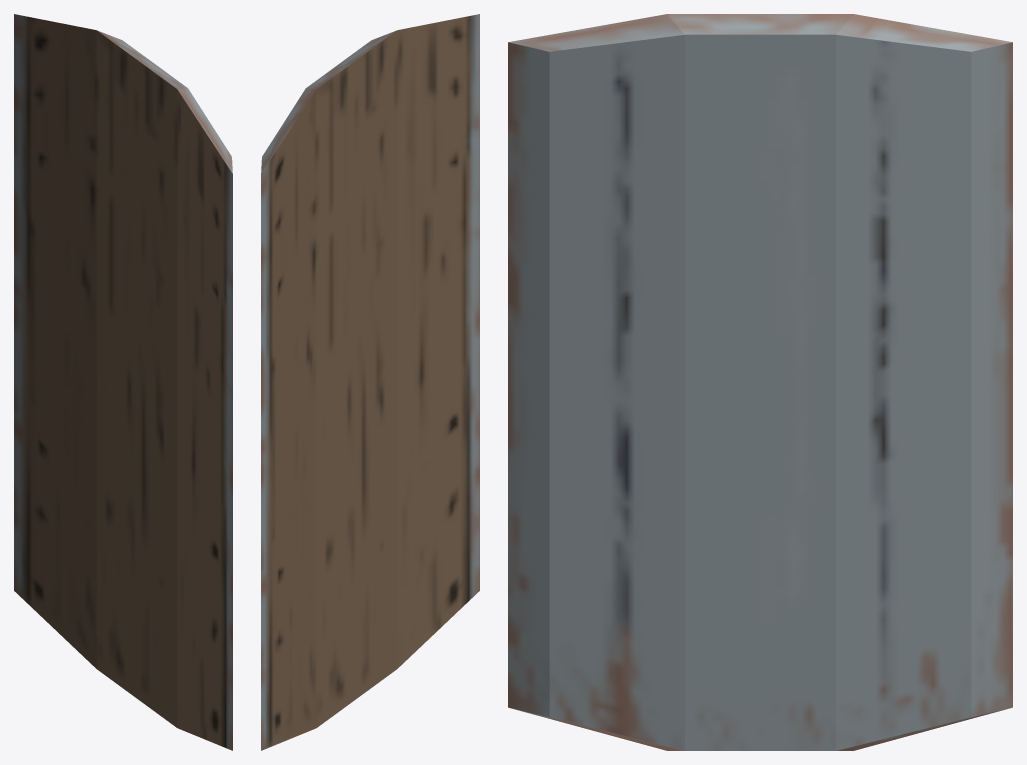
Rendered from towerShield.fbx.
The picture shows the model from 3 angles, left to right: view 1: azimuth 30°, elevation 25°; view 2: azimuth 150°, elevation 25°; view 3: azimuth 270°, elevation 25°; orthographic projection. The views are drawn at different scales.
Parts seen in each view (by area): view 1: Cube; view 2: Cube; view 3: Cube.
Boxes of the visible parts, <box> form: Cube: <box>14,14,232,750</box>; Cube: <box>261,14,479,750</box>; Cube: <box>508,14,1012,750</box>.
Bounding box in the file's own units: 94.3 × 7.94 × 152.
